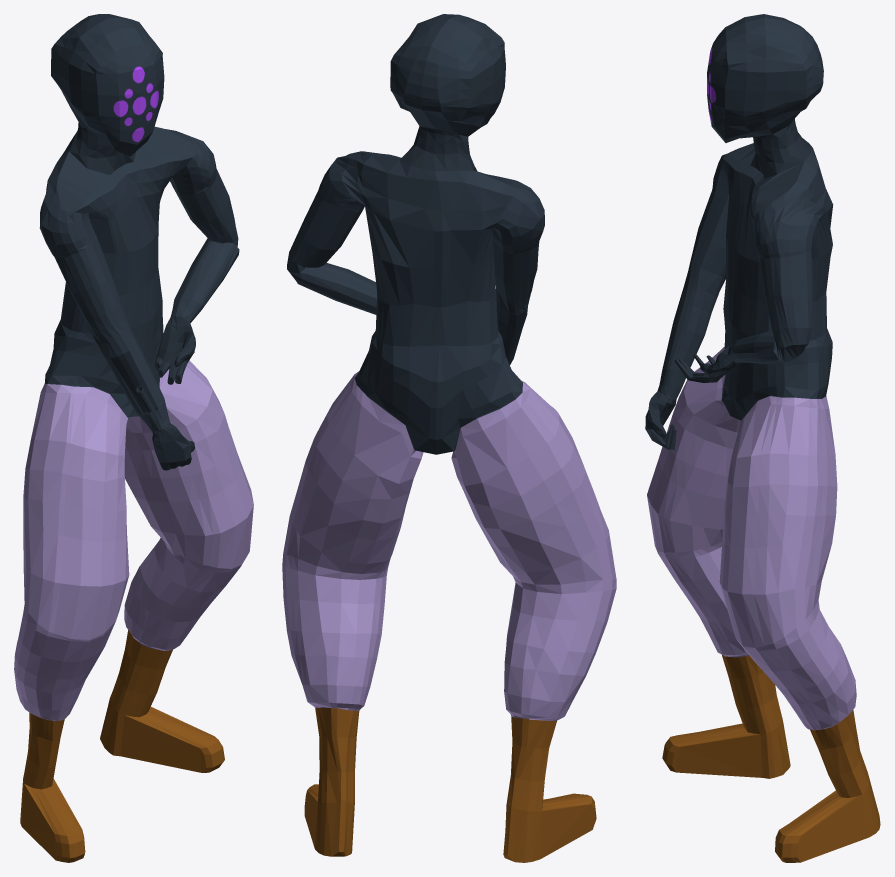
File: Oracle_WR_000016.obj
The picture shows the model from 3 angles, left to right: view 1: azimuth 30°, elevation 25°; view 2: azimuth 150°, elevation 25°; view 3: azimuth 270°, elevation 25°; orthographic projection. The views are drawn at different scales.
Parts seen in each view (by area): view 1: Cube; view 2: Cube; view 3: Cube.
Boxes of the visible parts, bbox=[...] form: Cube: bbox=[14, 14, 253, 862]; Cube: bbox=[282, 14, 616, 862]; Cube: bbox=[645, 14, 880, 862].
Size of the model in its own units: 1.34 by 3.78 by 1.02.
